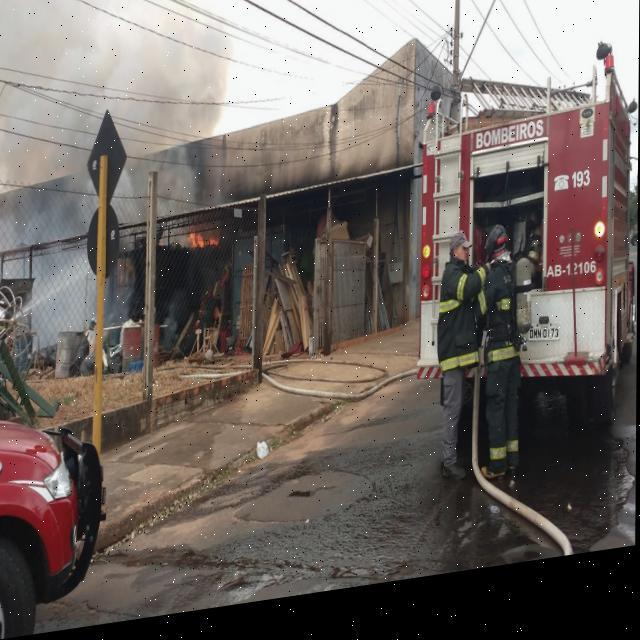Fire: (188, 228, 218, 260)
